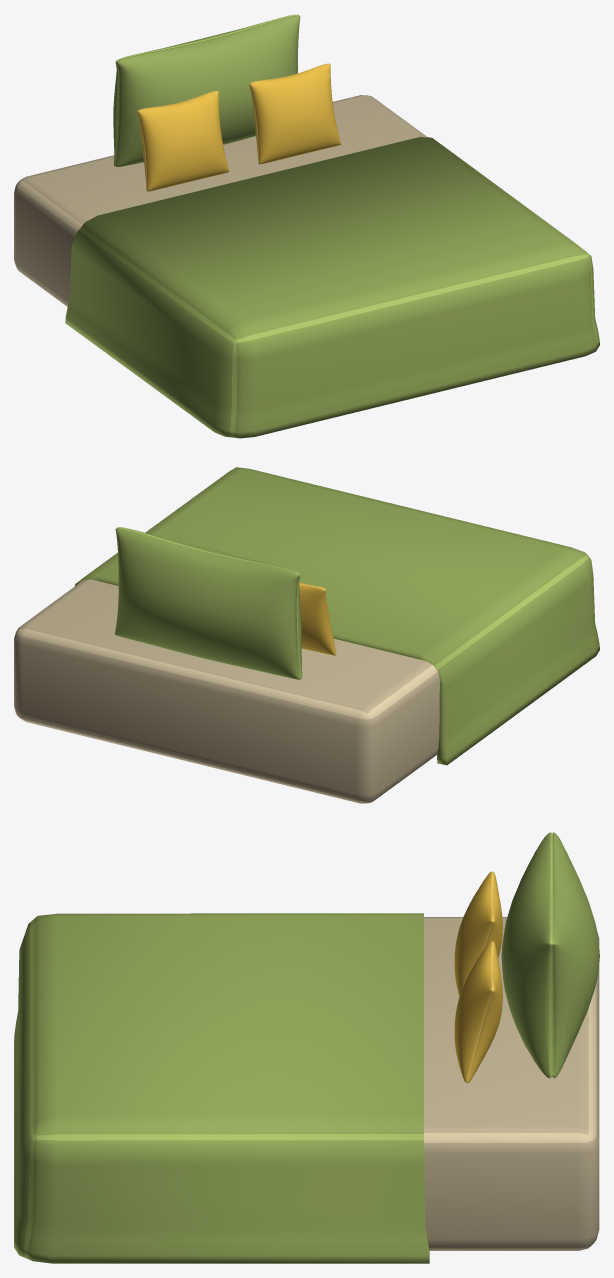
Rendered from Bed.fbx.
3 renders of one model, top to bottom at view 1: azimuth 30°, elevation 25°; view 2: azimuth 150°, elevation 25°; view 3: azimuth 270°, elevation 25°, orthographic. The views are drawn at different scales.
Visible parts, largest first — view 1: Duvet, Bed, Pillow, Pillow.003, Pillow.001; view 2: Duvet, Bed, Pillow, Pillow.001; view 3: Duvet, Bed, Pillow, Pillow.003, Pillow.001.
Part boxes in pixels (<box>): Duvet: <box>65,137,599,438</box>; Bed: <box>14,95,427,306</box>; Pillow: <box>113,14,300,166</box>; Pillow.003: <box>249,63,340,164</box>; Pillow.001: <box>137,91,229,191</box>; Duvet: <box>74,467,599,765</box>; Bed: <box>14,579,439,803</box>; Pillow: <box>114,527,302,679</box>; Pillow.001: <box>299,582,336,655</box>; Duvet: <box>14,913,429,1263</box>; Bed: <box>424,917,599,1250</box>; Pillow: <box>501,832,599,1078</box>; Pillow.003: <box>454,940,502,1083</box>; Pillow.001: <box>454,871,502,996</box>.
Bounding box in the file's own units: 457 × 235 × 479.
